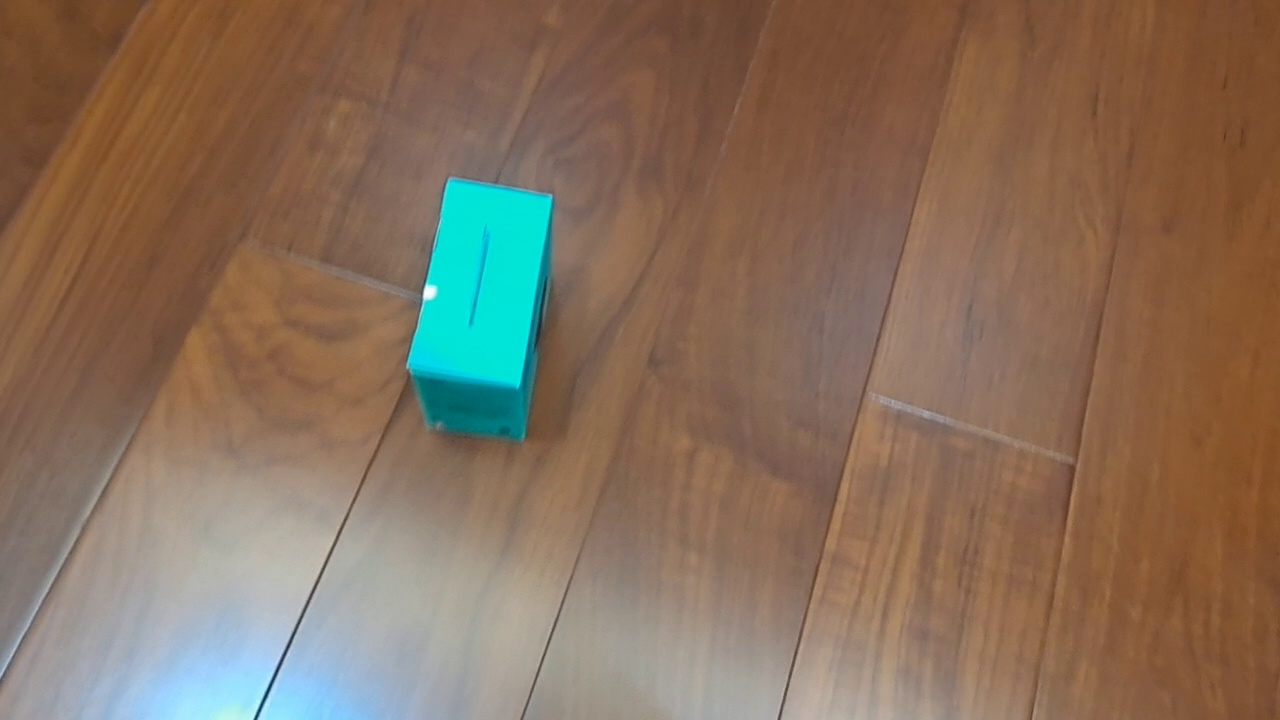webcam: (405, 175, 555, 444)
